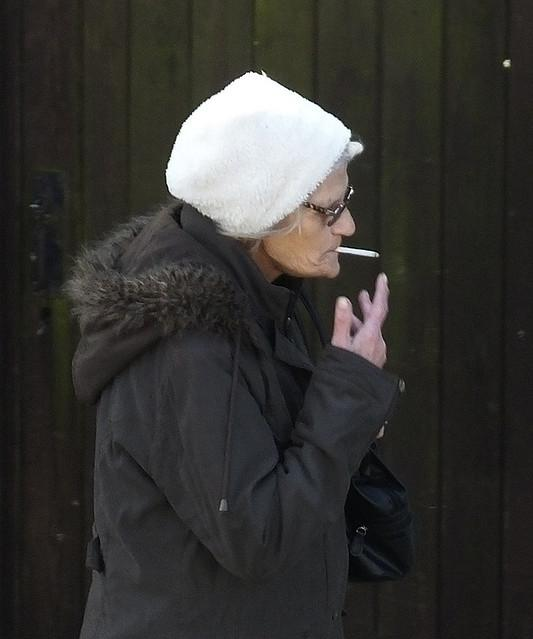cigarette: (335, 246, 384, 259)
